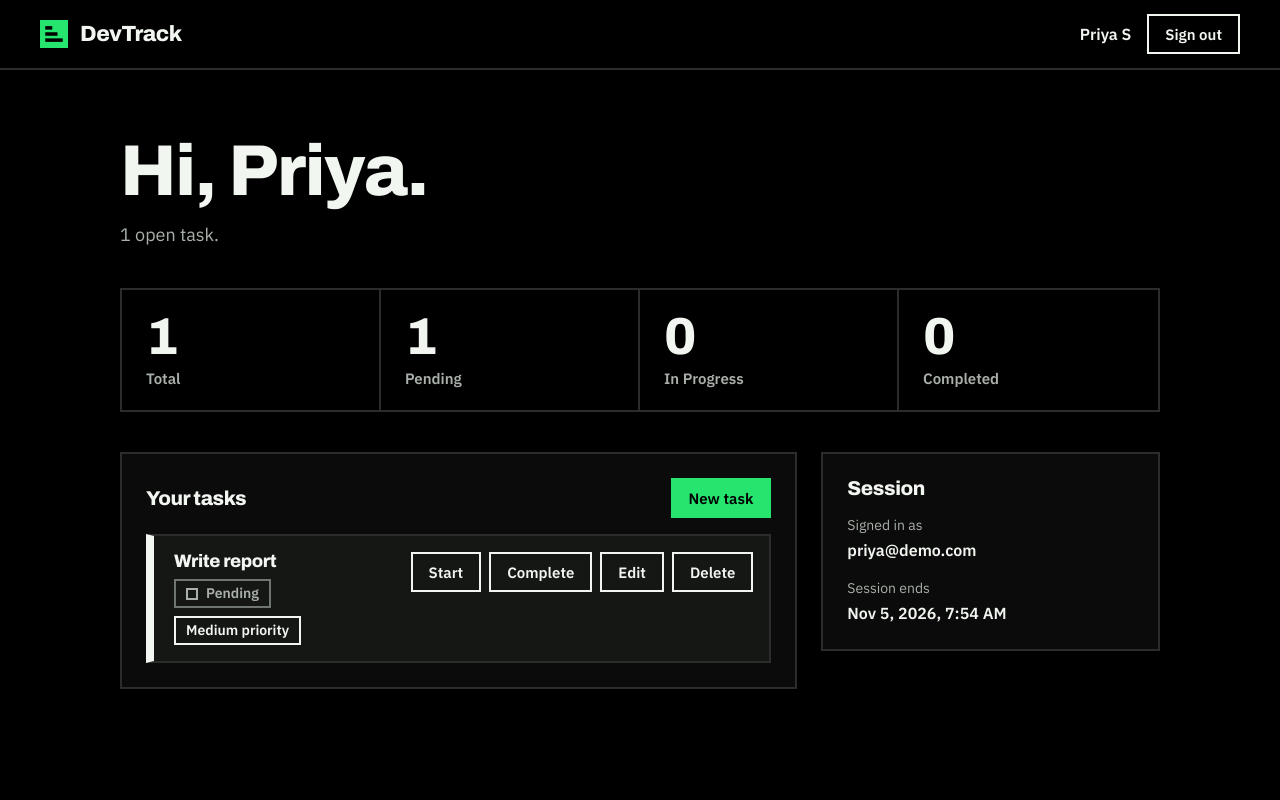
it: Dashboard: quick status changes (FR-08) › completing a task marks the card as done and drops it from the open count
Check: the heading "Hi, Priya." is shown, box 120,132 -> 428,210
Check: the text "1 open task." is shown, box 120,223 -> 219,246
Click the button with aria-label "Mark Write report as Completed" at x=541, y=572, box 489,552 -> 592,592
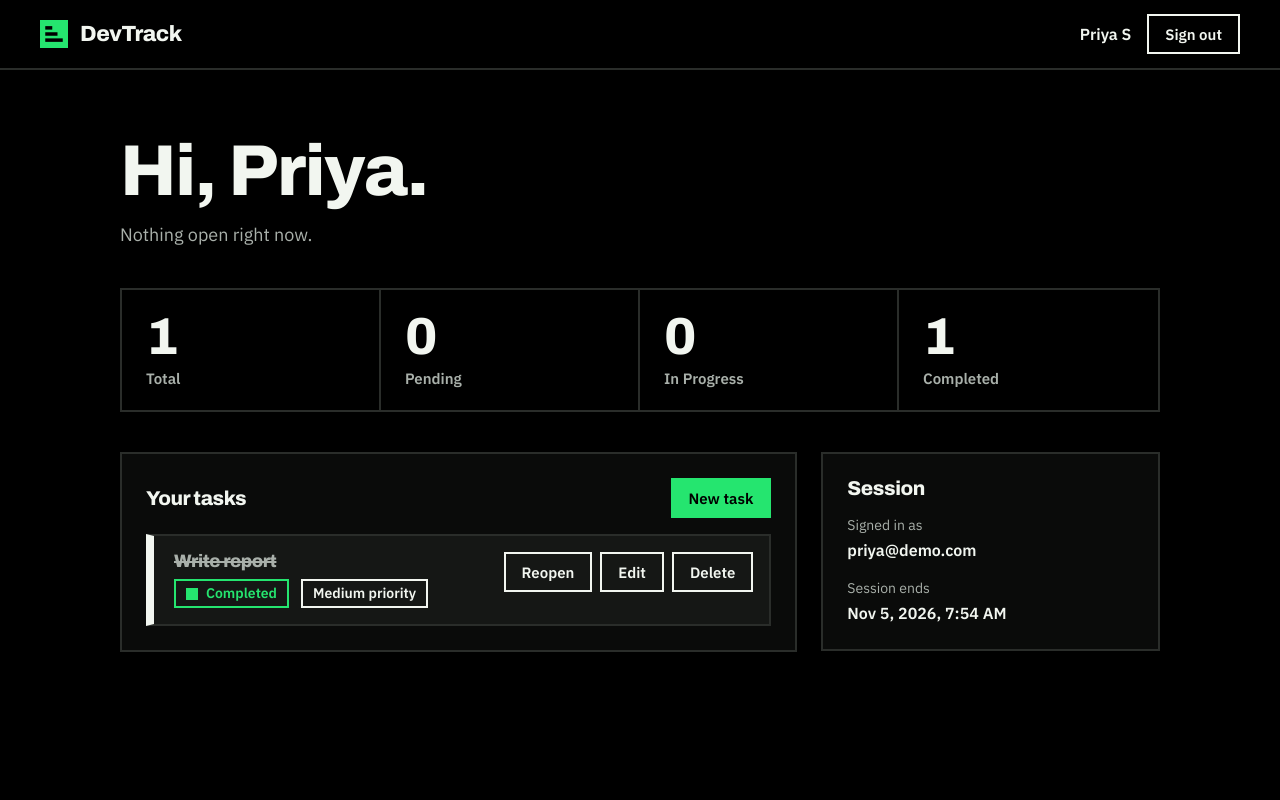
Check: the text "Nothing open right now." is shown, box 120,223 -> 312,246
Check: the text "Completed" is shown, box 174,579 -> 289,608
